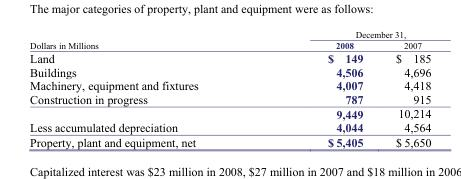table: (29, 28, 430, 148)
table column: (29, 28, 262, 148), (262, 28, 378, 148), (378, 28, 430, 148)
table column header: (29, 28, 430, 50)
table row: (29, 50, 430, 64), (29, 64, 430, 78), (29, 78, 430, 92), (29, 92, 430, 106), (29, 106, 430, 120), (29, 120, 430, 134), (29, 134, 430, 148), (29, 28, 430, 39), (29, 39, 430, 50)
table spanning cell: (29, 28, 262, 50), (262, 28, 430, 39)
